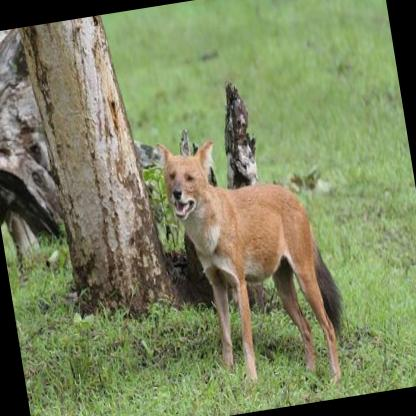dhole: (152, 116, 354, 407)
